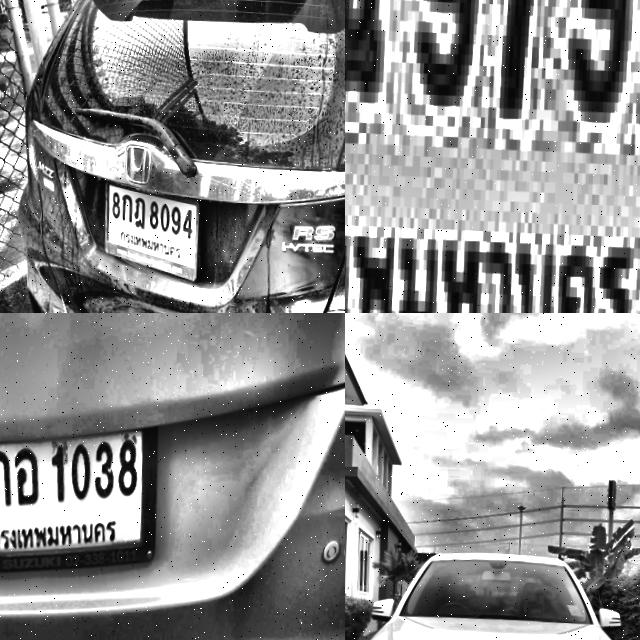license-plate: (345, 0, 640, 313), (0, 400, 168, 586), (102, 171, 209, 284)
